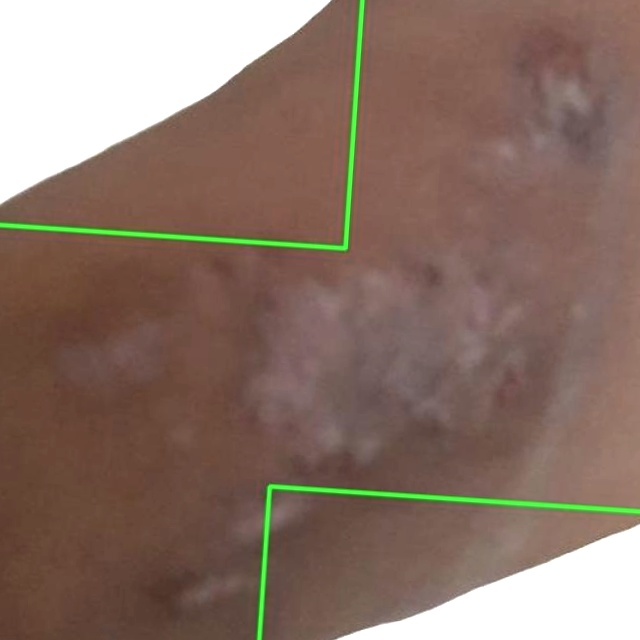Eczema: (0, 0, 362, 248), (259, 486, 639, 639)
